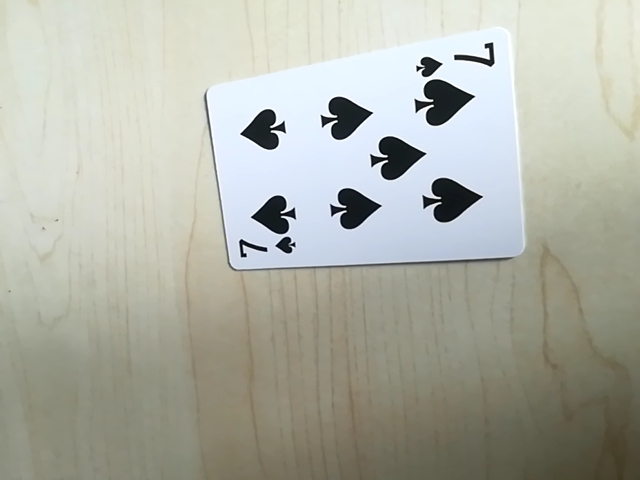ht 7: (420, 38, 498, 75), (231, 233, 300, 265)
